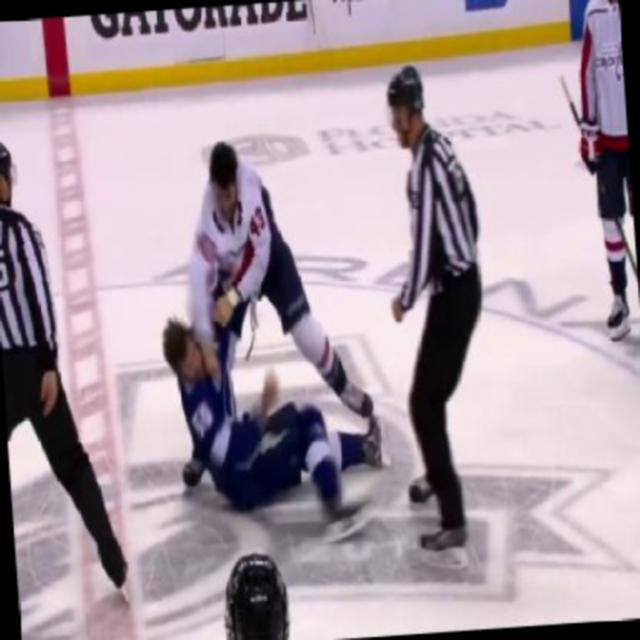fight: (146, 130, 387, 542), (376, 60, 502, 551), (0, 128, 102, 590), (568, 0, 638, 348)
